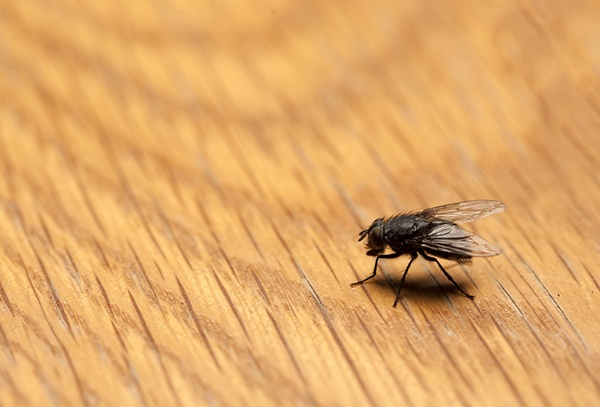house fly: (342, 194, 508, 310)
